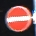No entry: (5, 5, 30, 31)
